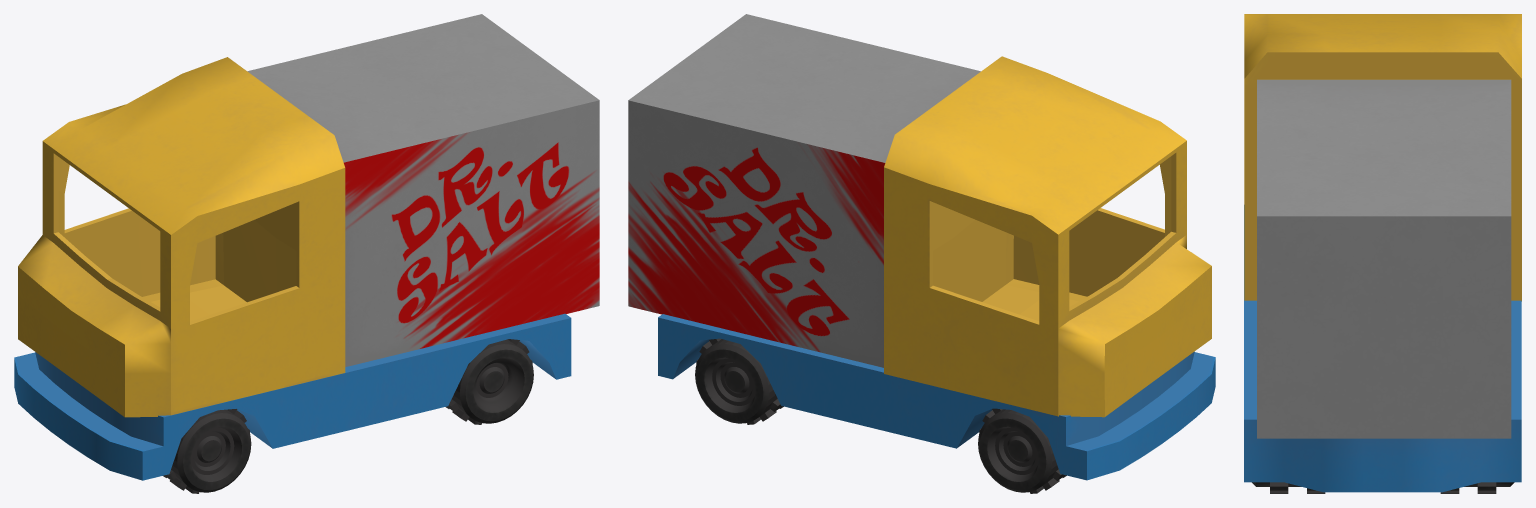
File: toy truck.fbx
3 renders of one model, left to right at view 1: azimuth 30°, elevation 25°; view 2: azimuth 150°, elevation 25°; view 3: azimuth 270°, elevation 25°, orthographic. The views are drawn at different scales.
Visible parts, largest first — view 1: Cube.007; view 2: Cube.007; view 3: Cube.007.
Part boxes in pixels (bbox=[...]): Cube.007: bbox=[14, 14, 599, 493]; Cube.007: bbox=[628, 14, 1215, 493]; Cube.007: bbox=[1244, 14, 1521, 493].
Bounding box in the file's own units: 12.16 × 7.91 × 5.63.
1 material, 1 textured.
